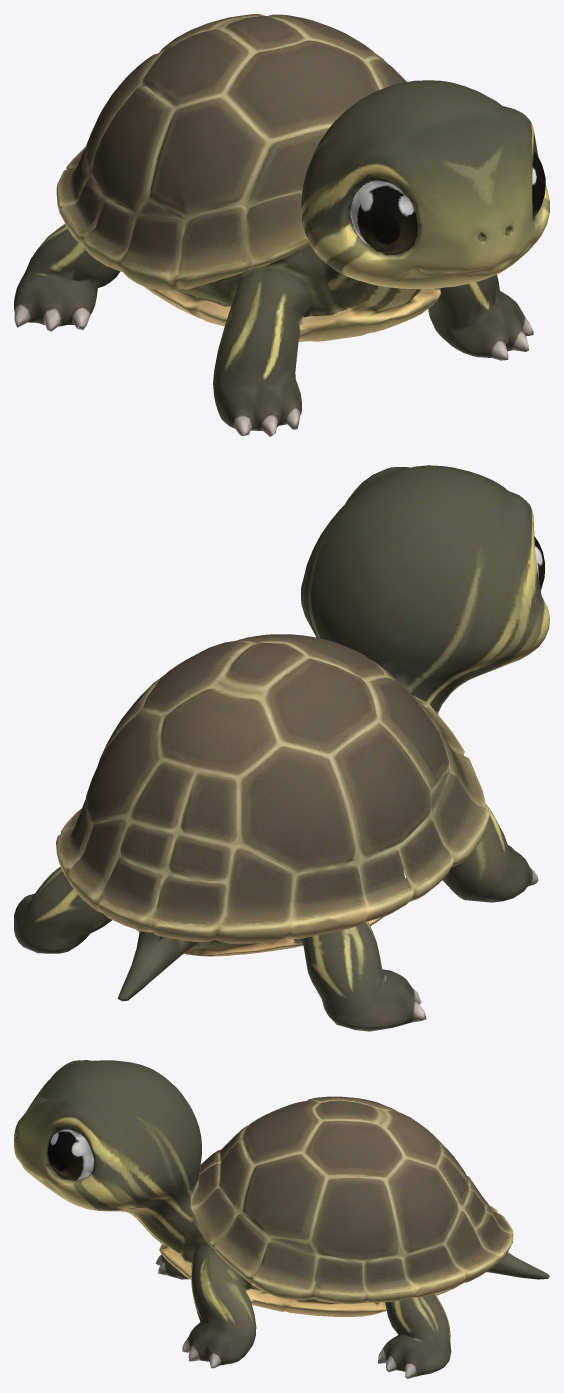
Rendered from turtle.glb.
3 renders of one model, top to bottom at view 1: azimuth 30°, elevation 25°; view 2: azimuth 150°, elevation 25°; view 3: azimuth 270°, elevation 25°, orthographic. The views are drawn at different scales.
Visible parts, largest first — view 1: turtle; view 2: turtle; view 3: turtle.
Part boxes in pixels (x1,y1,x2,y2): turtle: (14,14,549,436); turtle: (14,465,549,1031); turtle: (14,1060,549,1378).
Size of the model in its own units: 1.27 by 1 by 2.03.
Materials: 1 (1 with a texture image).
